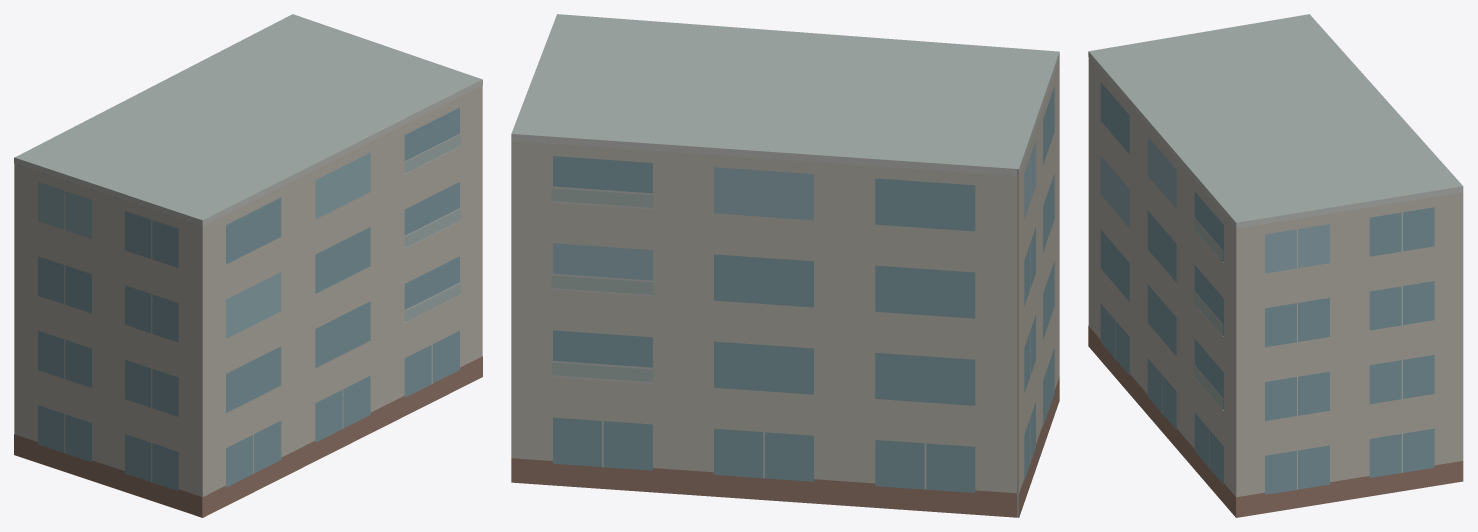
Rendered from survey-upis-32772875.glb.
3 views of the same model, side by side, from view 1: azimuth 30°, elevation 25°; view 2: azimuth 150°, elevation 25°; view 3: azimuth 270°, elevation 25° (orthographic). The views are drawn at different scales.
Parts seen in each view (by area): view 1: survey-upis-32772875.tmp; view 2: survey-upis-32772875.tmp; view 3: survey-upis-32772875.tmp.
Part boxes in pixels (bbox=[...]): survey-upis-32772875.tmp: bbox=[14, 14, 482, 517]; survey-upis-32772875.tmp: bbox=[511, 14, 1059, 517]; survey-upis-32772875.tmp: bbox=[1088, 14, 1463, 517].
Bounding box in the file's own units: 18.52 × 12.2 × 14.05.
